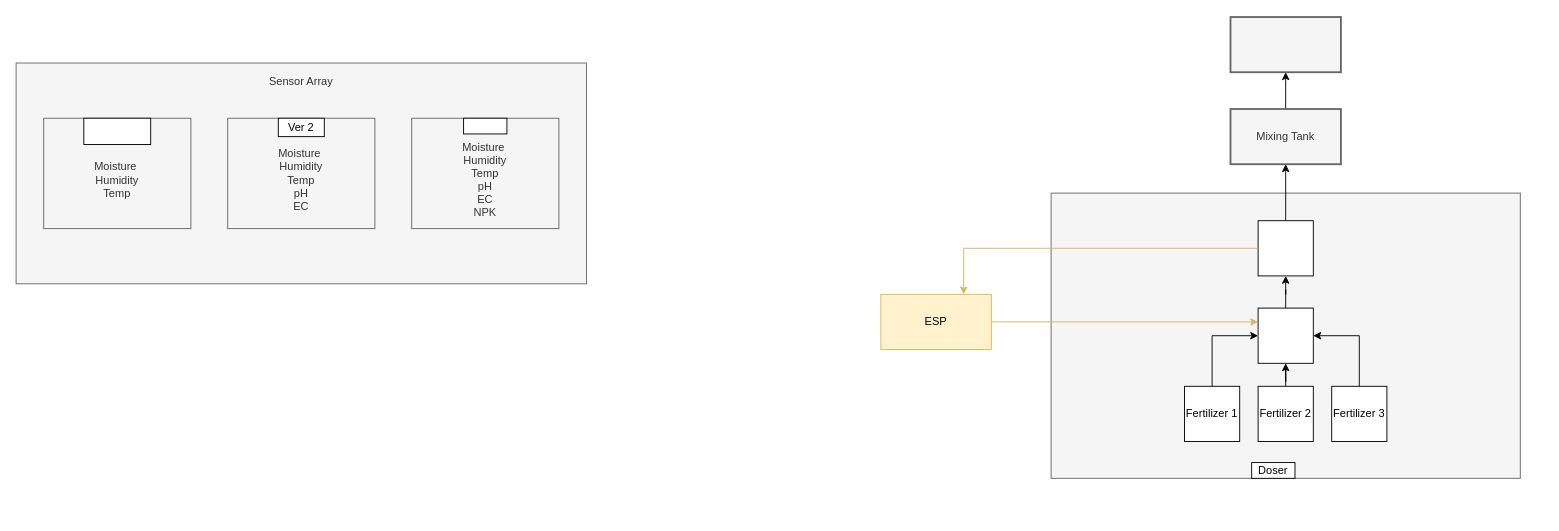
Some shapes in this 1559 by 531 pixel diagram are drawn without their labels. The shapes that lost their labels are listed below. From the top down, each one's centre as x and y in pixels, then its label:
At [1285,44]: "Irrigation".
At [117,131]: "Ver 1".
At [485,125]: "Ver 3".
At [1285,248]: "Flowmeter".
At [1285,335]: "3-way Solenoid valve".
